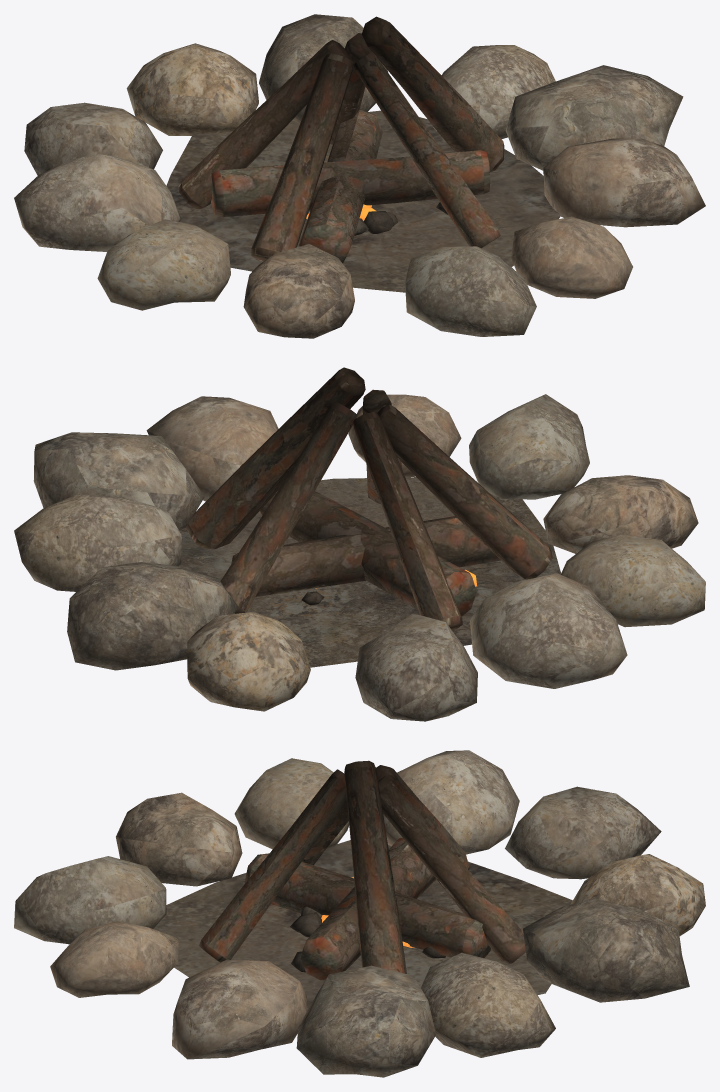
Rendered from b_fire.glb.
3 views of the same model, one above another, from view 1: azimuth 30°, elevation 25°; view 2: azimuth 150°, elevation 25°; view 3: azimuth 270°, elevation 25° (orthographic). The views are drawn at different scales.
Parts seen in each view (by area): view 1: b_fire; view 2: b_fire; view 3: b_fire.
Part boxes in pixels (x1=…): b_fire: x1=14, y1=14, x2=705, y2=338; b_fire: x1=14, y1=367, x2=705, y2=721; b_fire: x1=14, y1=750, x2=705, y2=1077.
Bounding box in the file's own units: 1.66 × 0.4819 × 1.62.
3 materials, 2 textured.
